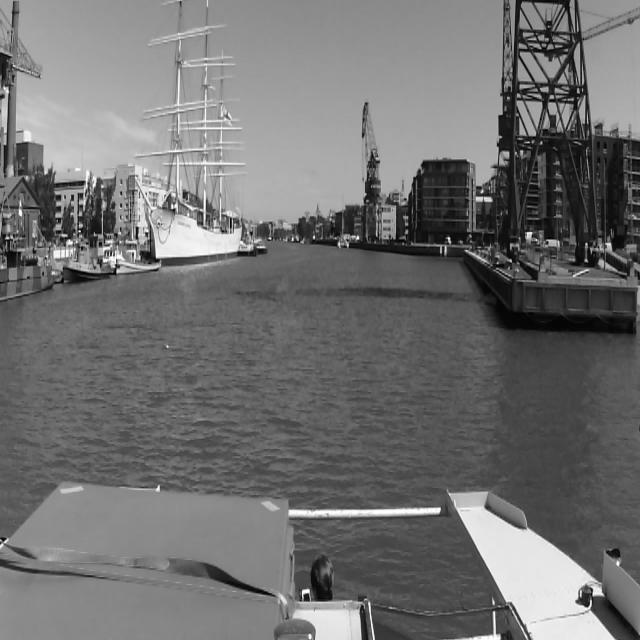ship: (162, 0, 242, 264), (0, 183, 62, 302), (64, 233, 112, 283), (116, 238, 162, 273), (337, 203, 349, 249), (250, 234, 272, 258), (242, 238, 258, 257)
